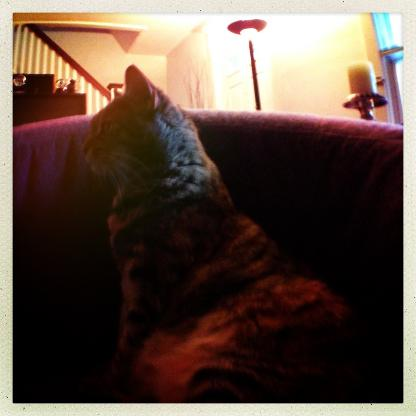Cat: (79, 62, 359, 402)
